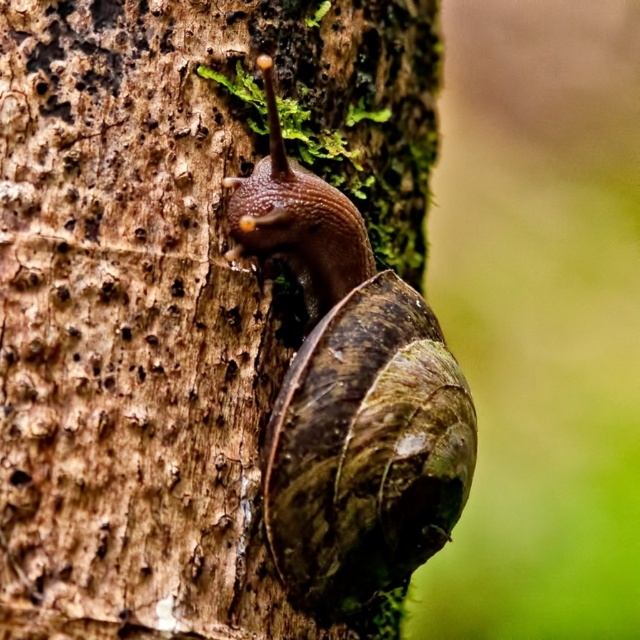Snail: (217, 49, 479, 619)
